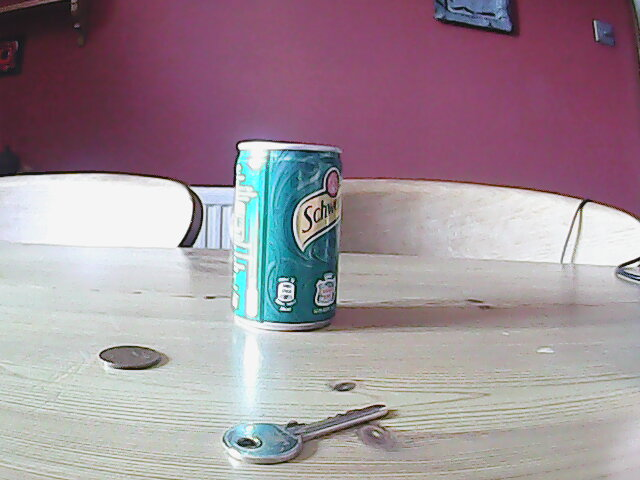Can: (227, 137, 346, 331)
Coin: (95, 342, 162, 373)
Key: (216, 400, 391, 470)
